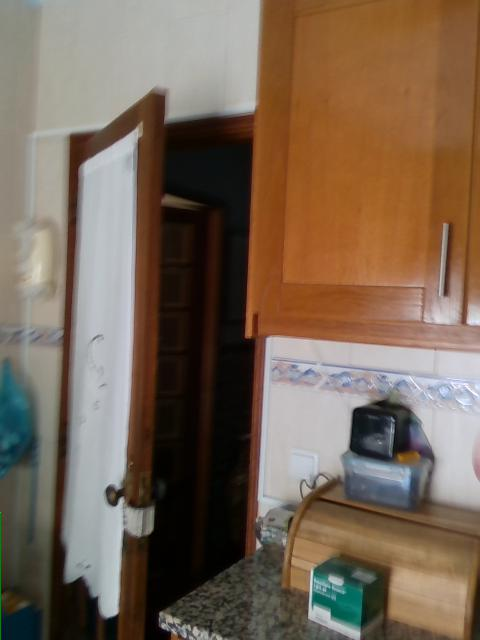semi_door: (49, 83, 269, 639)
